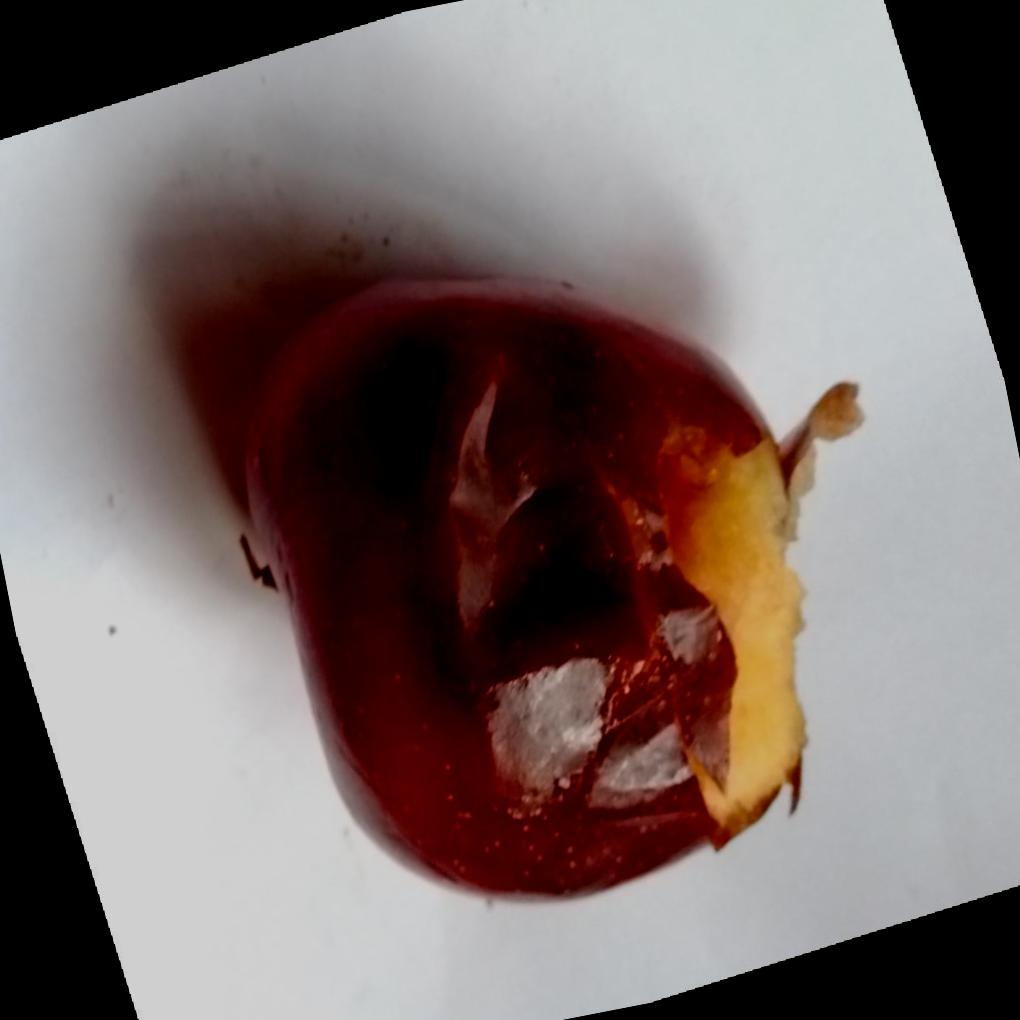FreshOrange: (236, 275, 858, 902)
